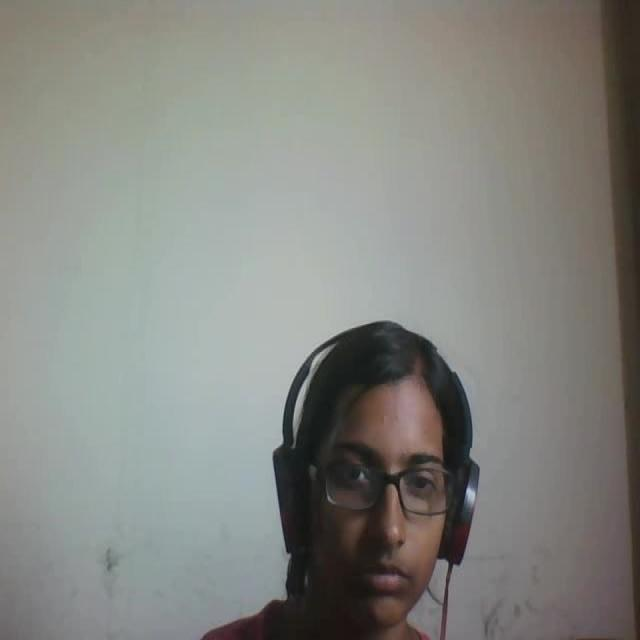Bored: (247, 296, 523, 640)
